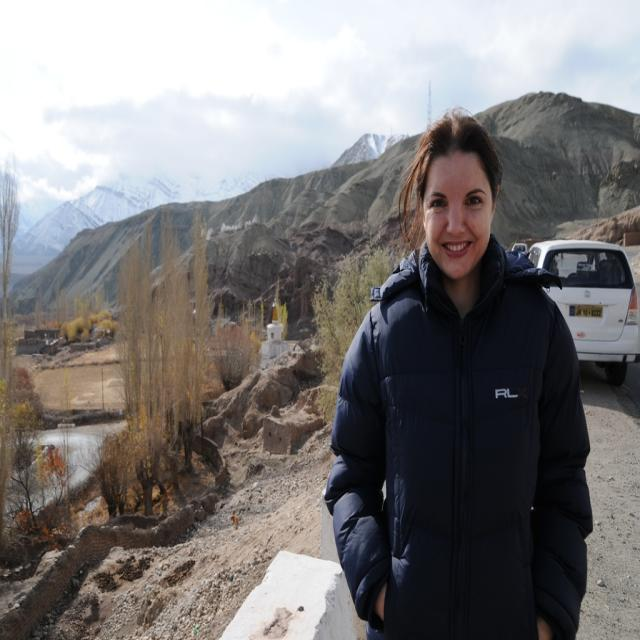other: (528, 236, 640, 378), (512, 242, 524, 256)
